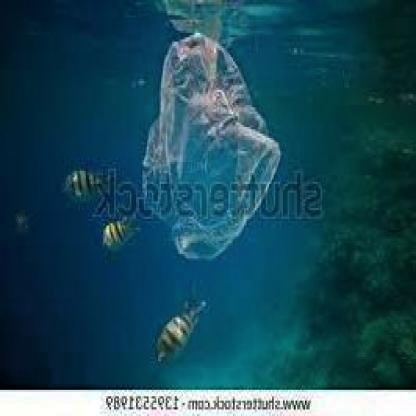pbag: (136, 29, 283, 267)
